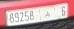2: (19, 11, 25, 22)
5: (24, 10, 29, 21)
6: (61, 6, 66, 17)
8: (29, 10, 35, 20), (9, 13, 14, 23)
9: (14, 12, 19, 23)
h: (44, 11, 51, 18)
